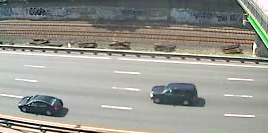car: (148, 81, 201, 109), (17, 92, 66, 118)
